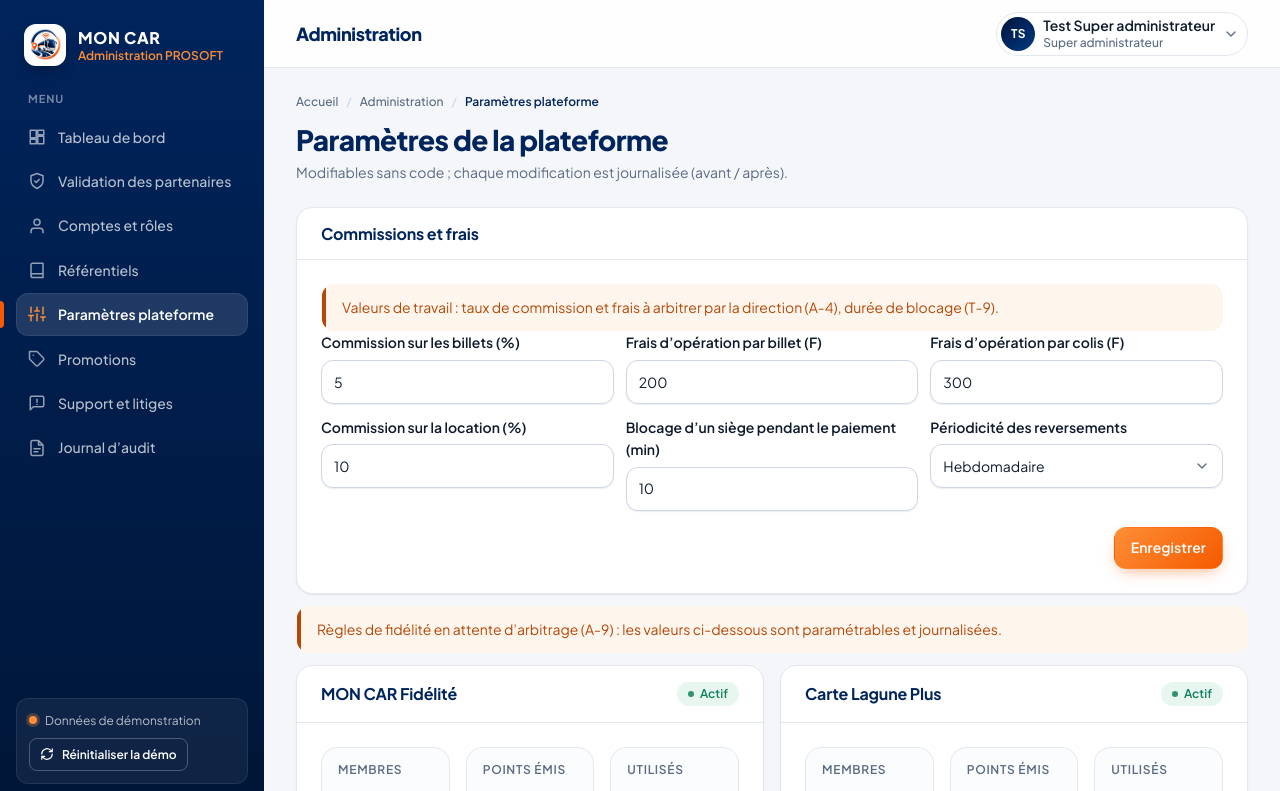
Test case: Finances, promotions, paramètres, litiges › refuse un taux de commission hors limites puis enregistre une valeur valide (journalisée)
The width and height of the screenshot is (1280, 791).
Replace the text in the number field labelled "Commission sur les billets (%)" with "45" at (467, 382), box x1=321 y1=360 x2=614 y2=404
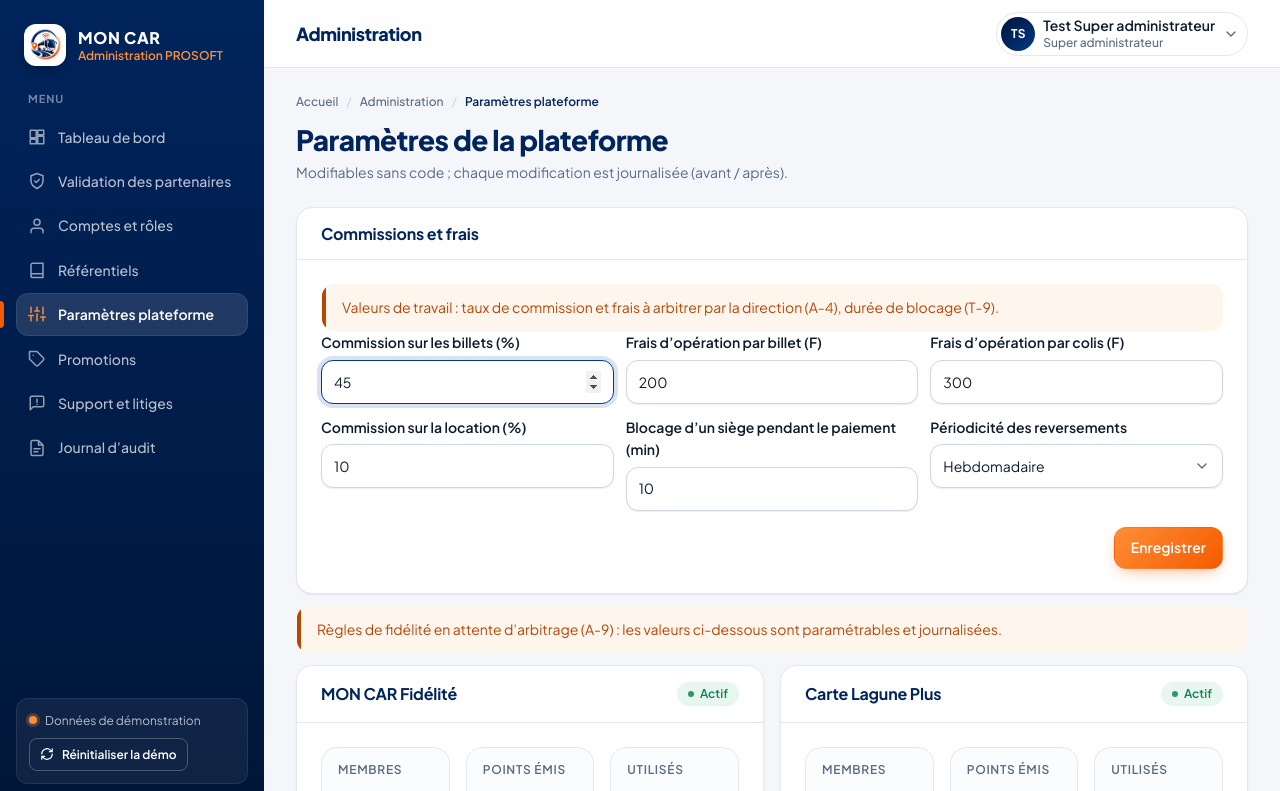
Click the button "Enregistrer" at (1168, 548), box x1=1114 y1=526 x2=1223 y2=568
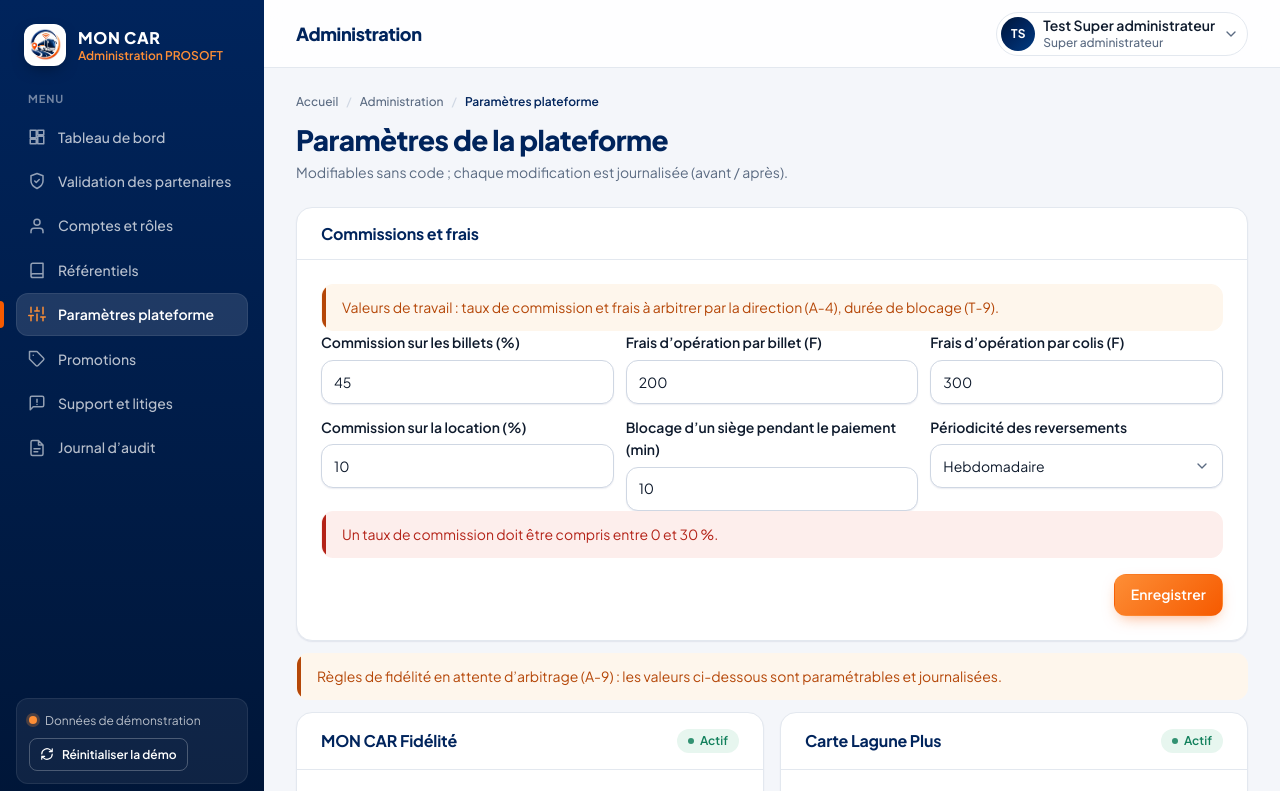
Now the text "Un taux de commission doit être compris entre 0 et 30 %." is shown, box x1=342 y1=524 x2=718 y2=544
Replace the text in the number field labelled "Commission sur les billets (%)" with "6" at (467, 382), box x1=321 y1=360 x2=614 y2=404
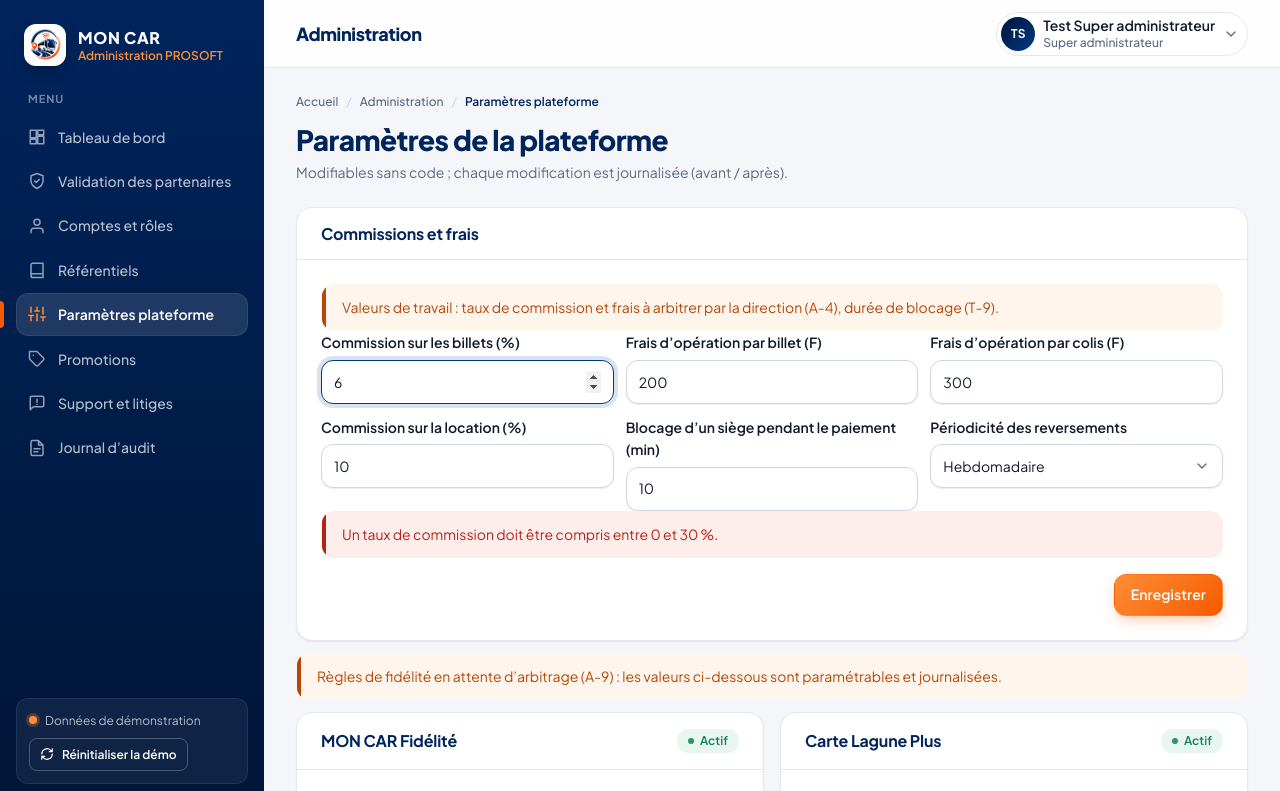
Click the button "Enregistrer" at (1168, 594), box x1=1114 y1=574 x2=1223 y2=616
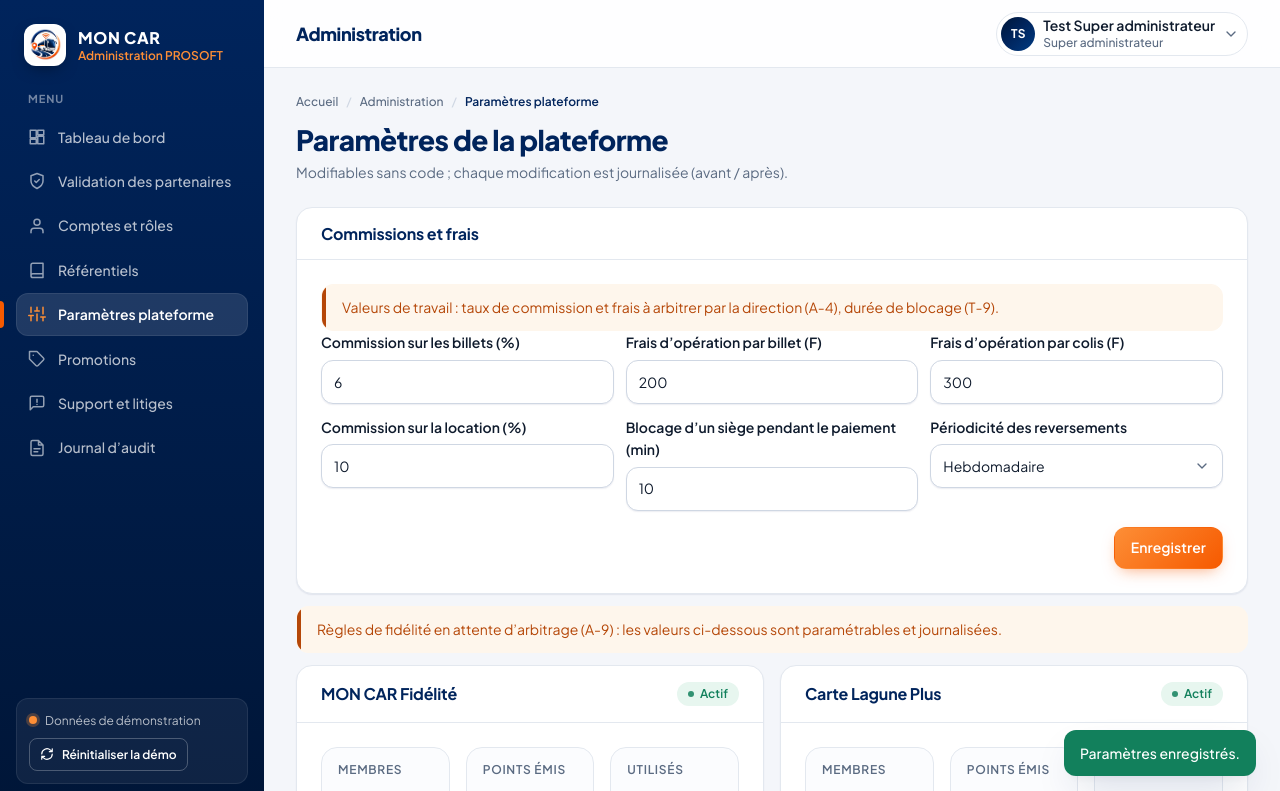
Now the text "Paramètres enregistrés." is shown, box x1=1064 y1=730 x2=1256 y2=776
